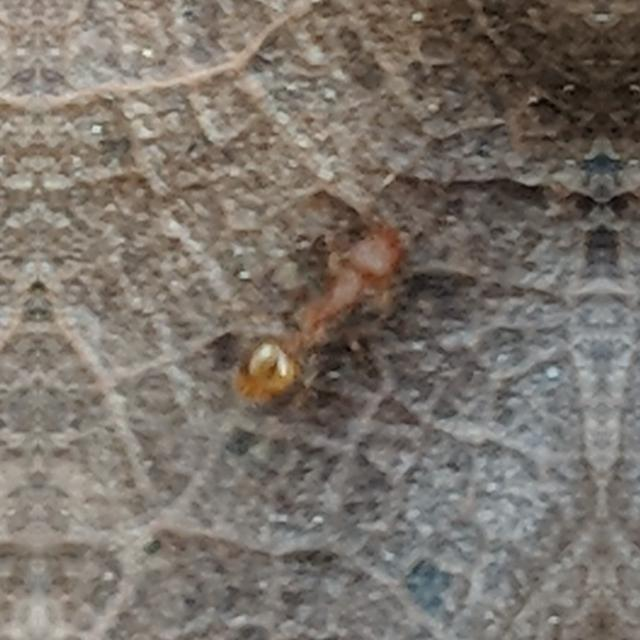Temnothorax: (198, 170, 434, 426)
